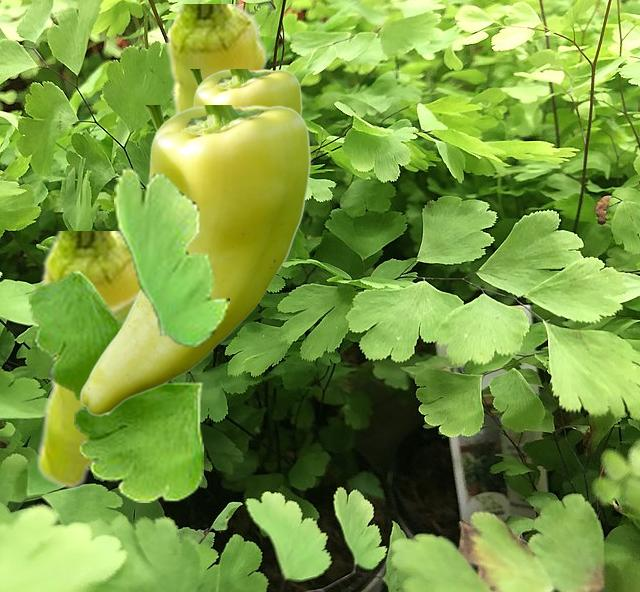green_chili: (79, 105, 310, 416), (35, 231, 137, 489), (160, 4, 267, 115), (188, 69, 301, 113)
